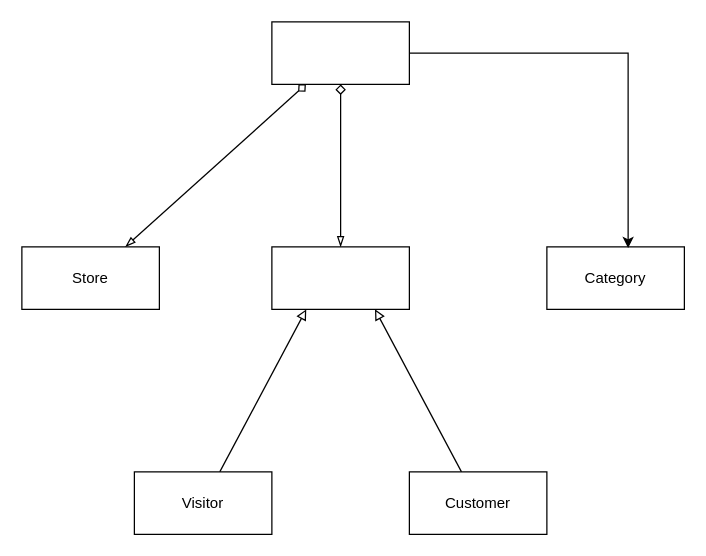
Some shapes in this 706 by 556 pixel diagram are drawn without their labels. Here are the shapes that lost their labels. From the top down, the centre of each, then its label:
point (340, 52): THD
point (340, 277): User
